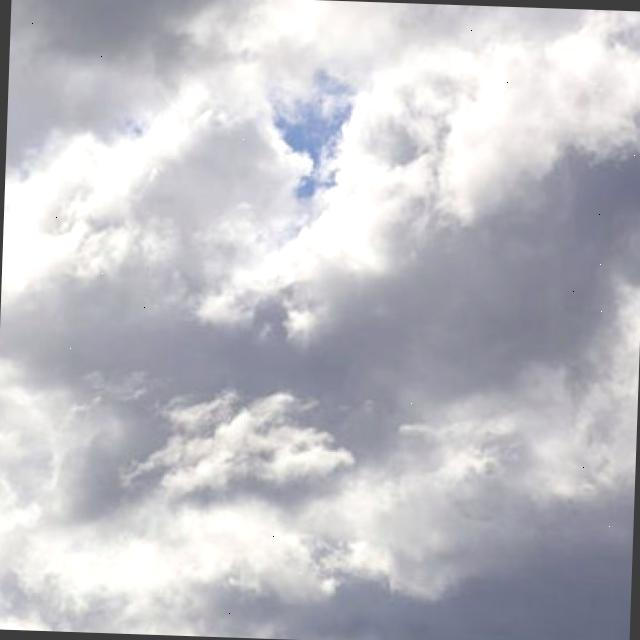As: (1, 61, 640, 638)
